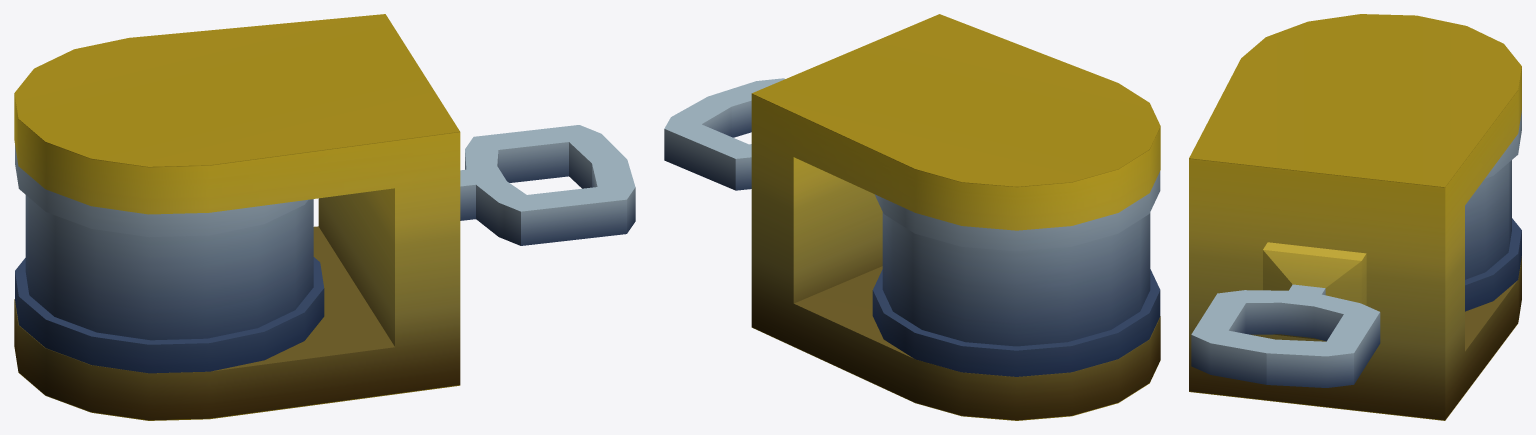
File: pulley.fbx
The picture shows the model from 3 angles, left to right: view 1: azimuth 30°, elevation 25°; view 2: azimuth 150°, elevation 25°; view 3: azimuth 270°, elevation 25°; orthographic projection. The views are drawn at different scales.
Parts seen in each view (by area): view 1: pulley; view 2: pulley; view 3: pulley.
Part boxes in pixels (x1,y1,x2,y2): pulley: (14, 14, 635, 420); pulley: (664, 14, 1160, 420); pulley: (1189, 14, 1521, 420).
Bounding box in the file's own units: 0.00482 × 0.00217 × 0.00281.
1 material, 1 textured.
